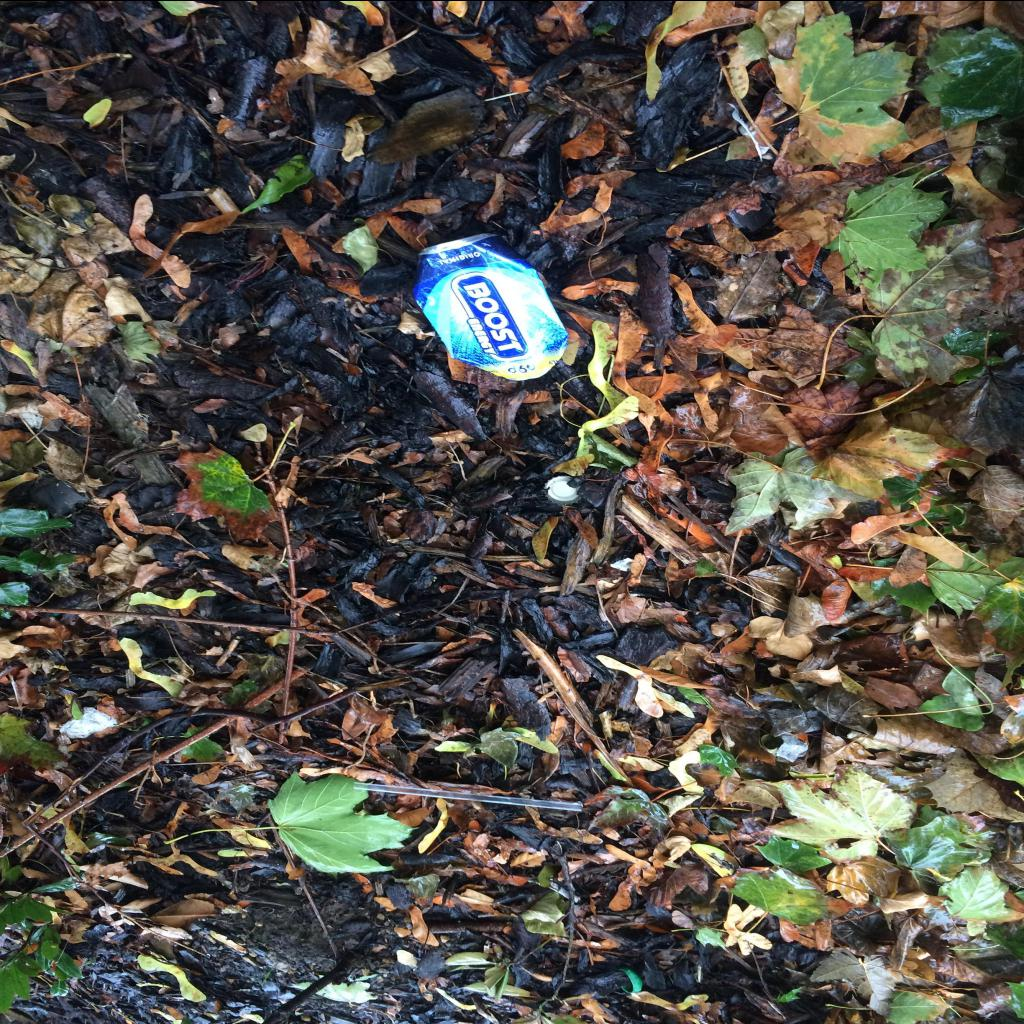Drink can: (413, 232, 569, 380)
Metal bottle cap: (544, 475, 582, 504)
Plastic straw: (354, 781, 583, 811)
